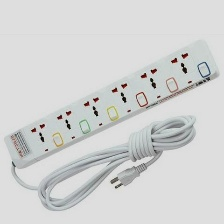three_eye_plug: (1, 36, 221, 172)
